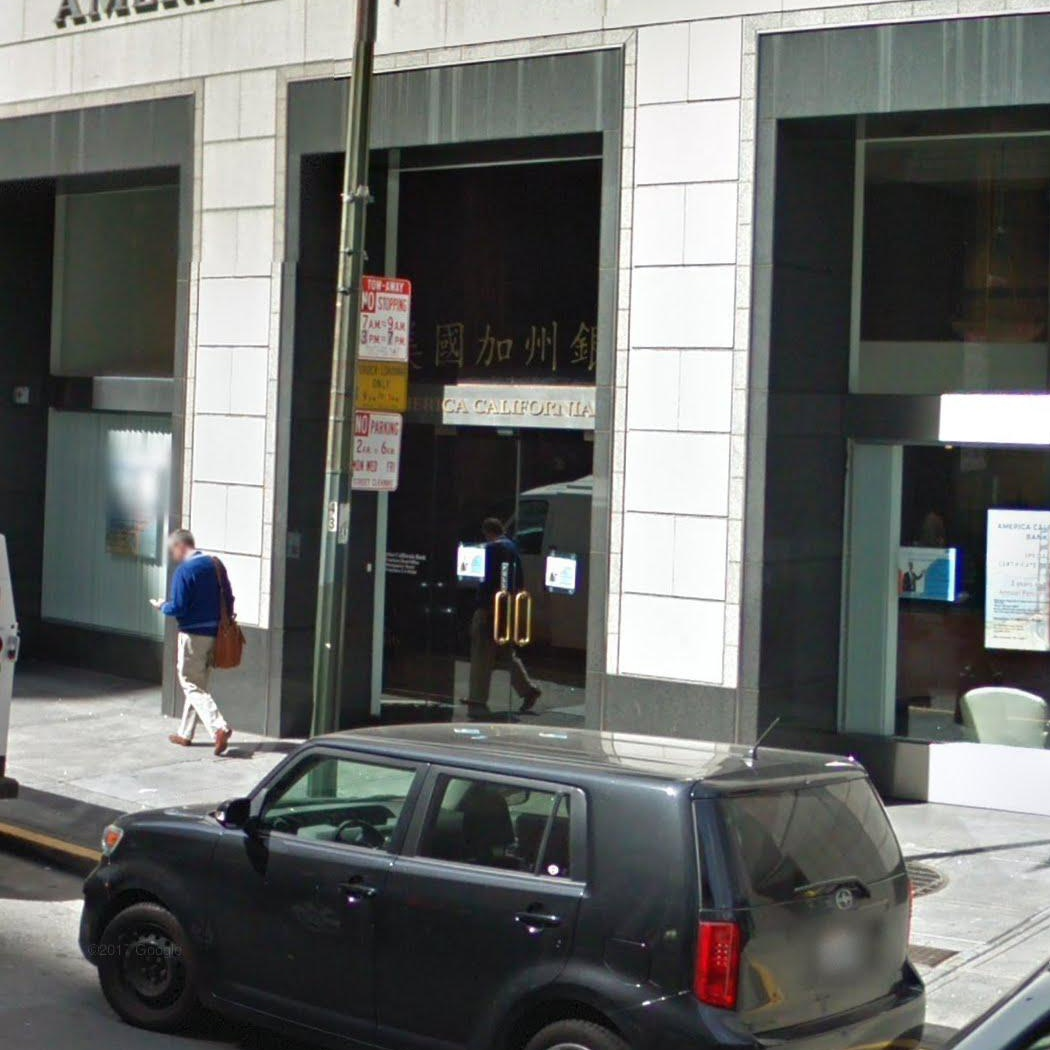No Parking: (348, 408, 403, 494)
